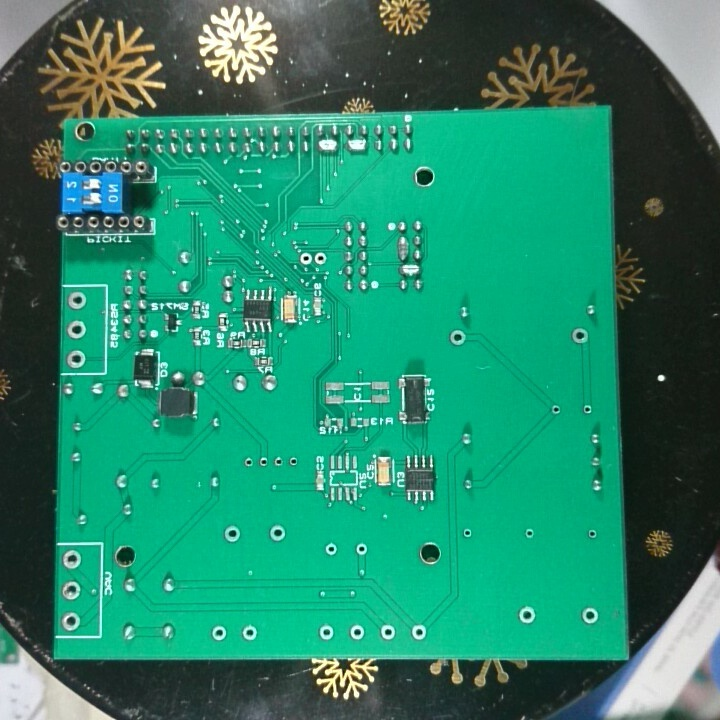F: (57, 610, 85, 635), (514, 601, 539, 628), (64, 289, 91, 312), (265, 520, 288, 546), (59, 547, 82, 573), (219, 522, 243, 546), (239, 621, 262, 645), (65, 317, 89, 340), (60, 578, 82, 603), (579, 603, 600, 629), (446, 326, 469, 349), (65, 347, 89, 369), (407, 621, 430, 643), (377, 620, 399, 643), (345, 621, 368, 643), (315, 620, 336, 644), (208, 622, 229, 646), (350, 538, 372, 560), (568, 325, 590, 346), (239, 452, 257, 472), (270, 452, 286, 474), (519, 526, 538, 543), (257, 451, 271, 473), (323, 541, 340, 559), (297, 249, 313, 268), (578, 402, 596, 418), (459, 525, 475, 543), (548, 401, 564, 418), (584, 526, 600, 543), (313, 249, 328, 267), (286, 453, 301, 471)
P: (343, 135, 370, 155), (316, 137, 342, 155), (397, 261, 424, 278), (396, 234, 409, 261)
